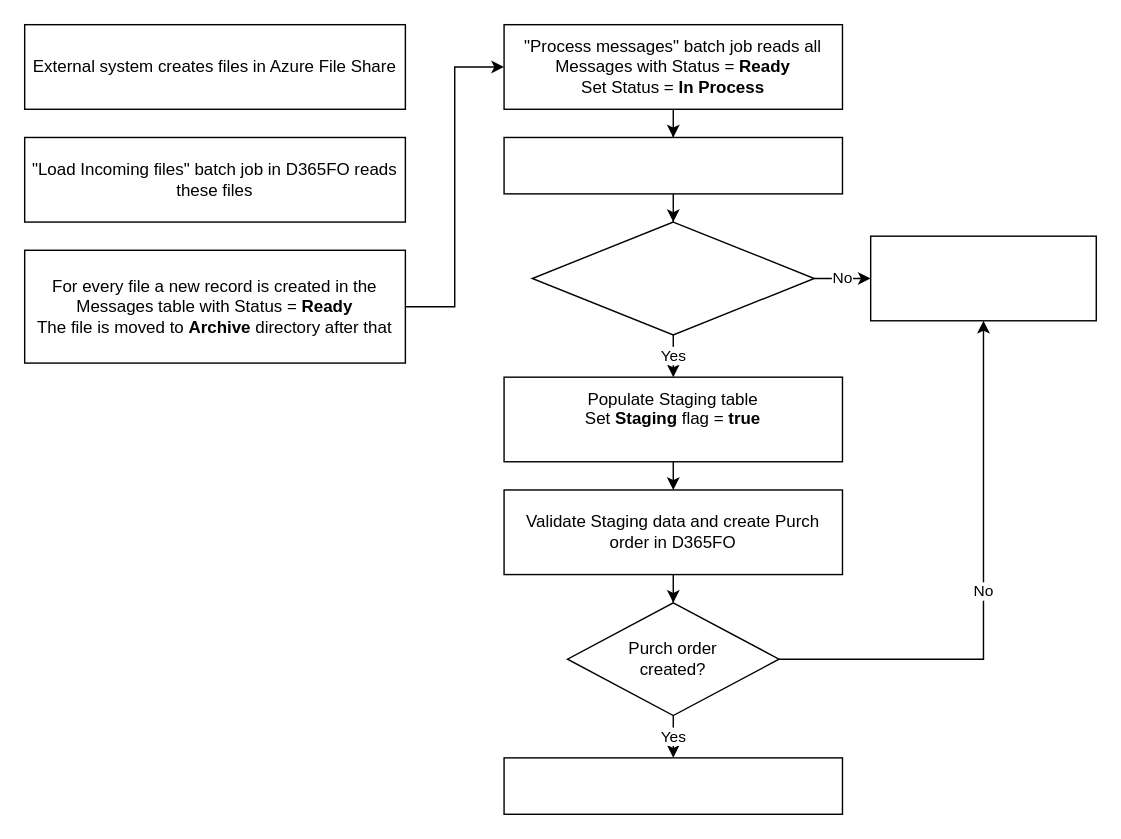
Some shapes in this 1121 by 839 pixel diagram are drawn without their labels. Here are the shapes that lost their labels. From the top down, the centre of each, then its label:
At (x=672, y=165): "Validate Message structure".
At (x=672, y=278): "Message has a valid format?".
At (x=982, y=278): "Set Message Status = Error".
At (x=672, y=785): "Set Message Status = Processed".
